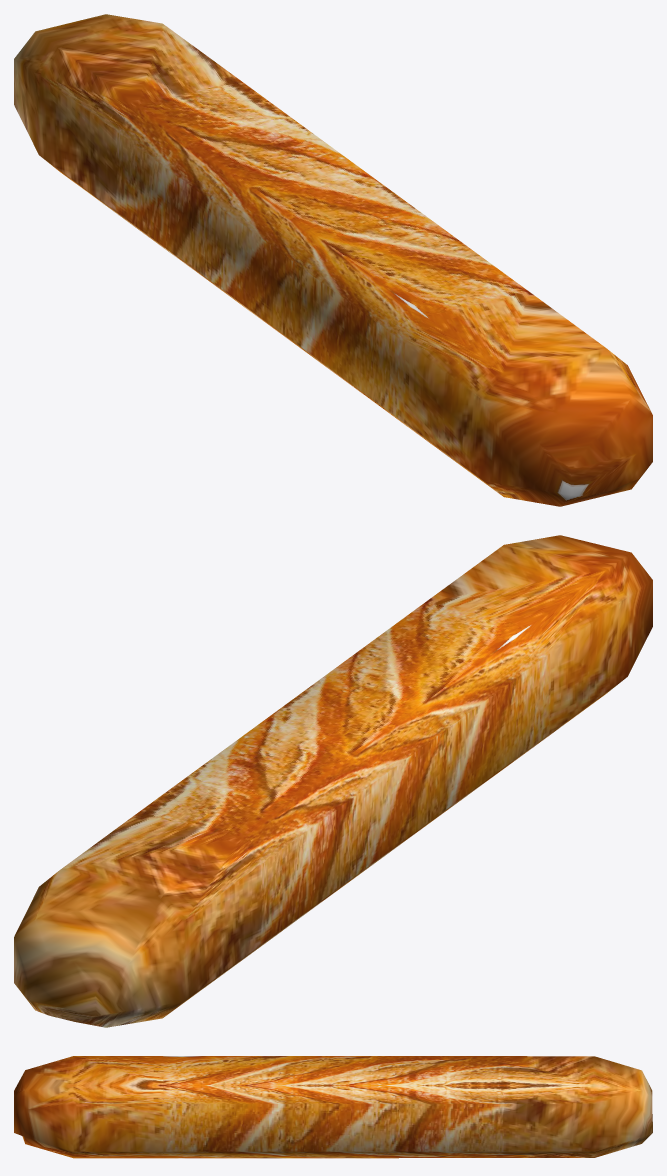
File: BaguetteArma.fbx
3 views of the same model, one above another, from view 1: azimuth 30°, elevation 25°; view 2: azimuth 150°, elevation 25°; view 3: azimuth 270°, elevation 25° (orthographic). The views are drawn at different scales.
Visible parts, largest first — view 1: Baguette; view 2: Baguette; view 3: Baguette.
Boxes of the visible parts, <box> form: Baguette: <box>14,14,652,506</box>; Baguette: <box>14,535,652,1027</box>; Baguette: <box>14,1056,652,1158</box>.
Bounding box in the file's own units: 13.36 × 10.88 × 86.74.
2 materials, 2 textured.
